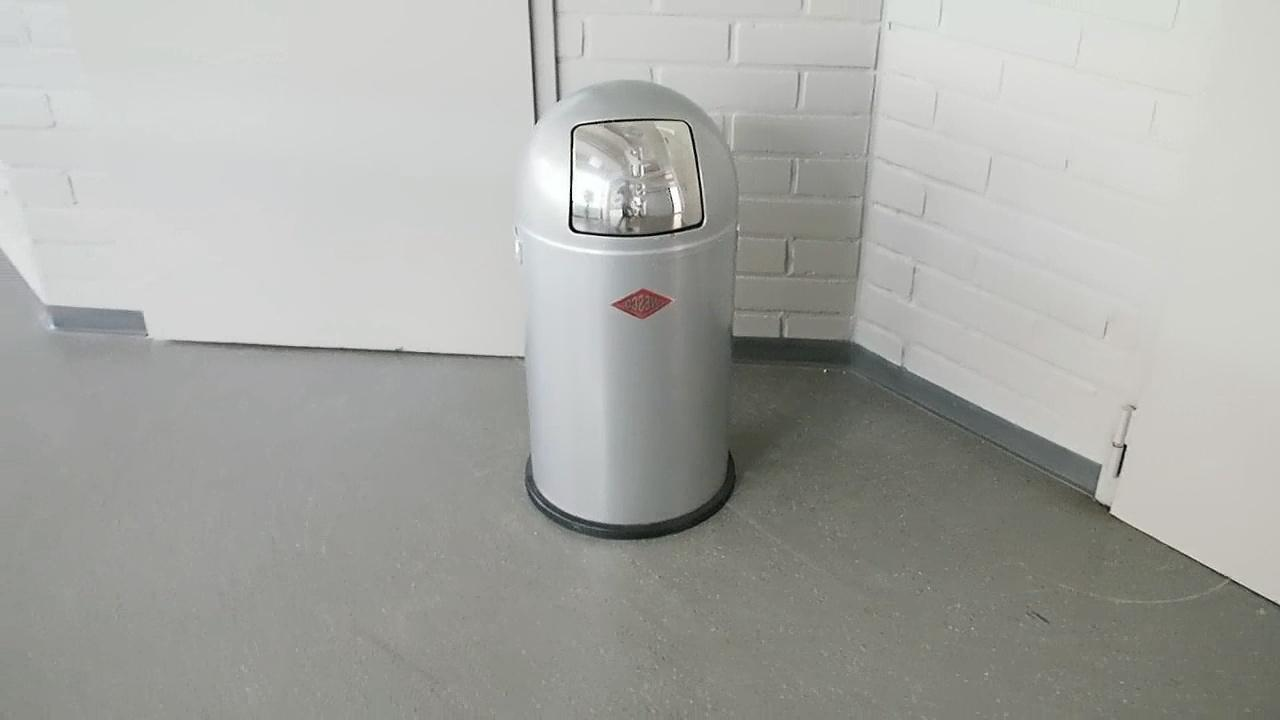trashbin: (509, 69, 748, 547)
